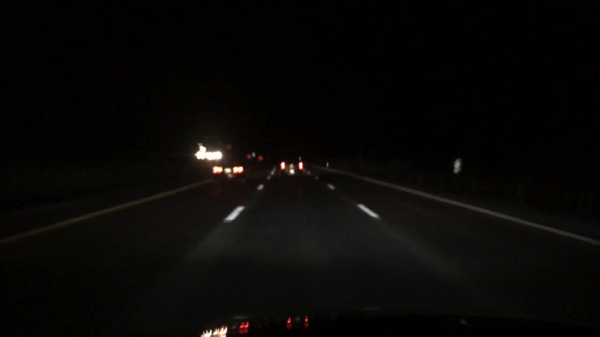car: (209, 158, 250, 188), (279, 158, 306, 177), (205, 148, 226, 162)
traffic sign: (251, 152, 256, 158)
